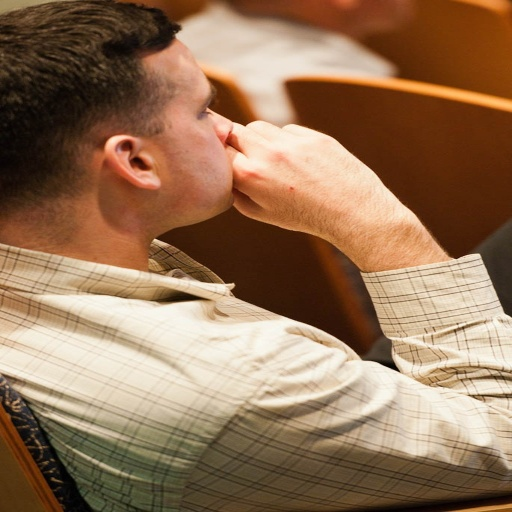hand: (207, 105, 449, 294)
